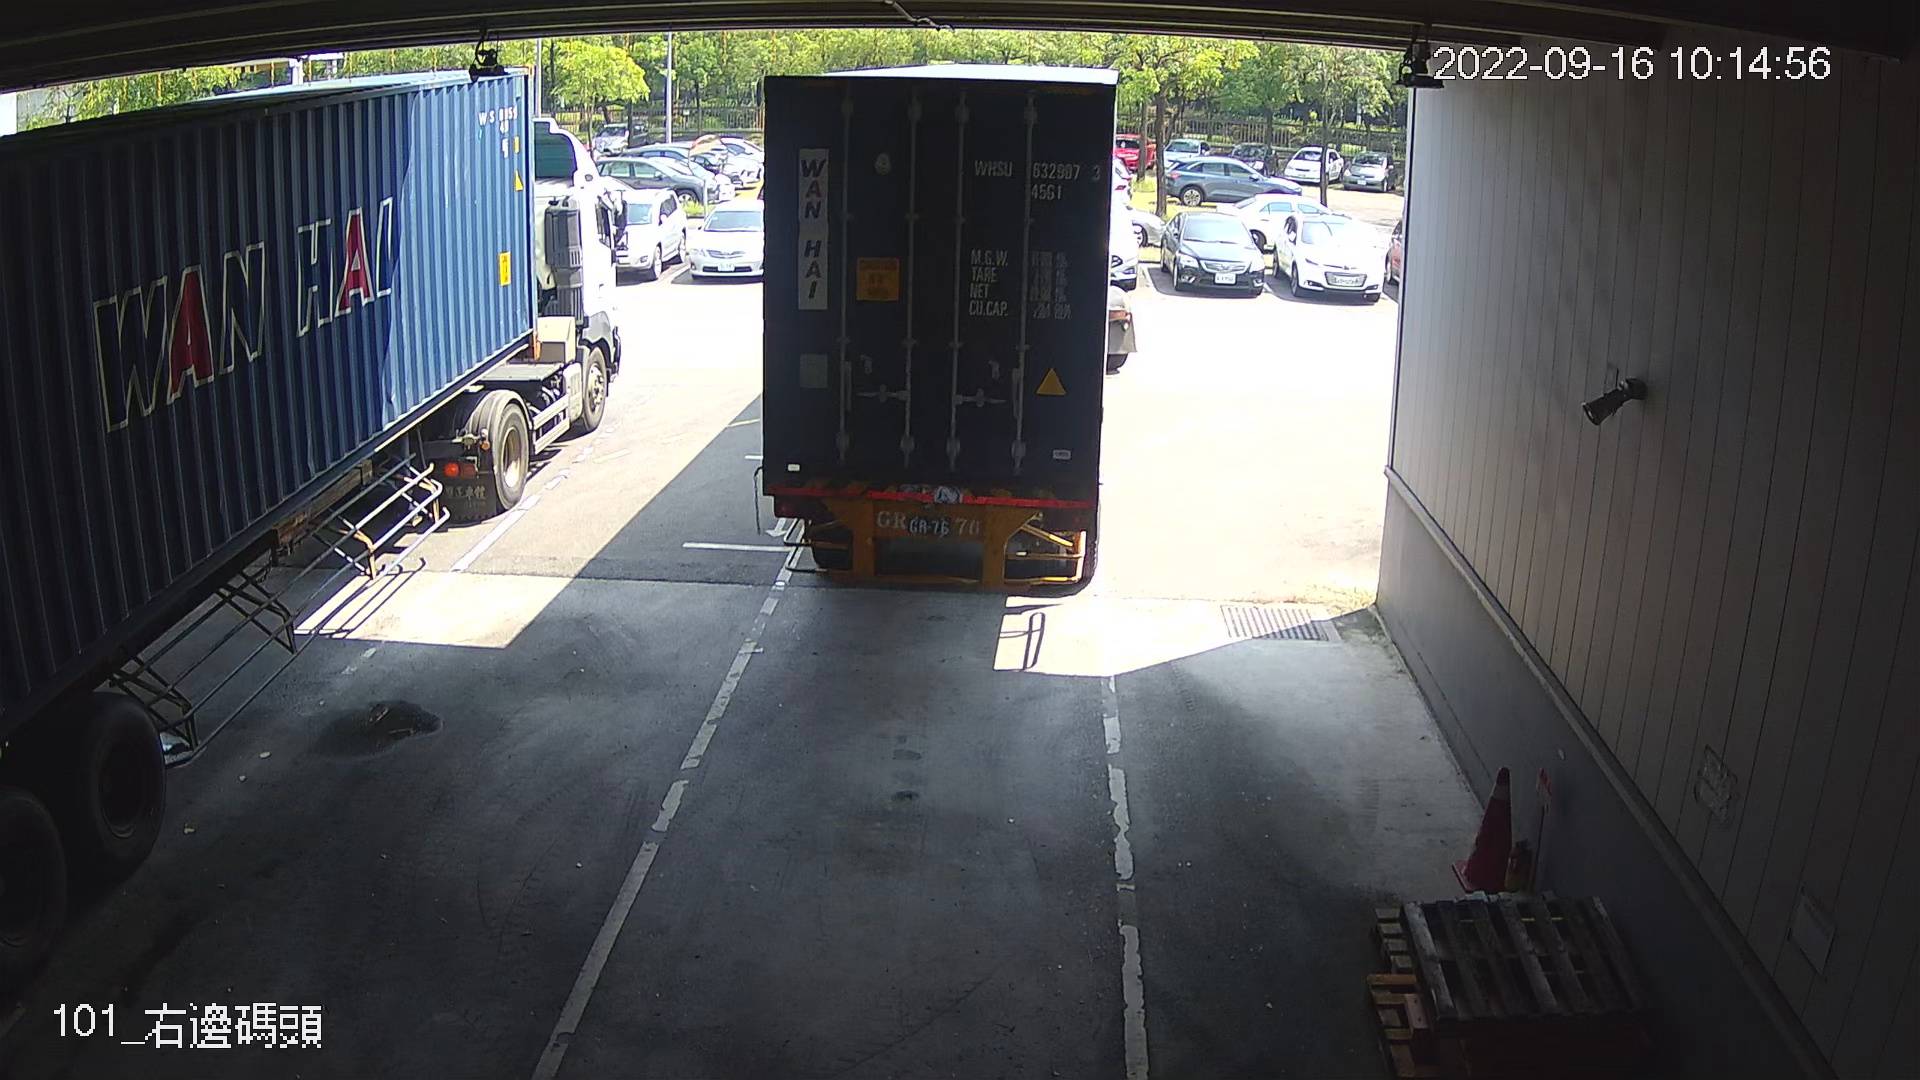container: (971, 152, 1106, 208)
